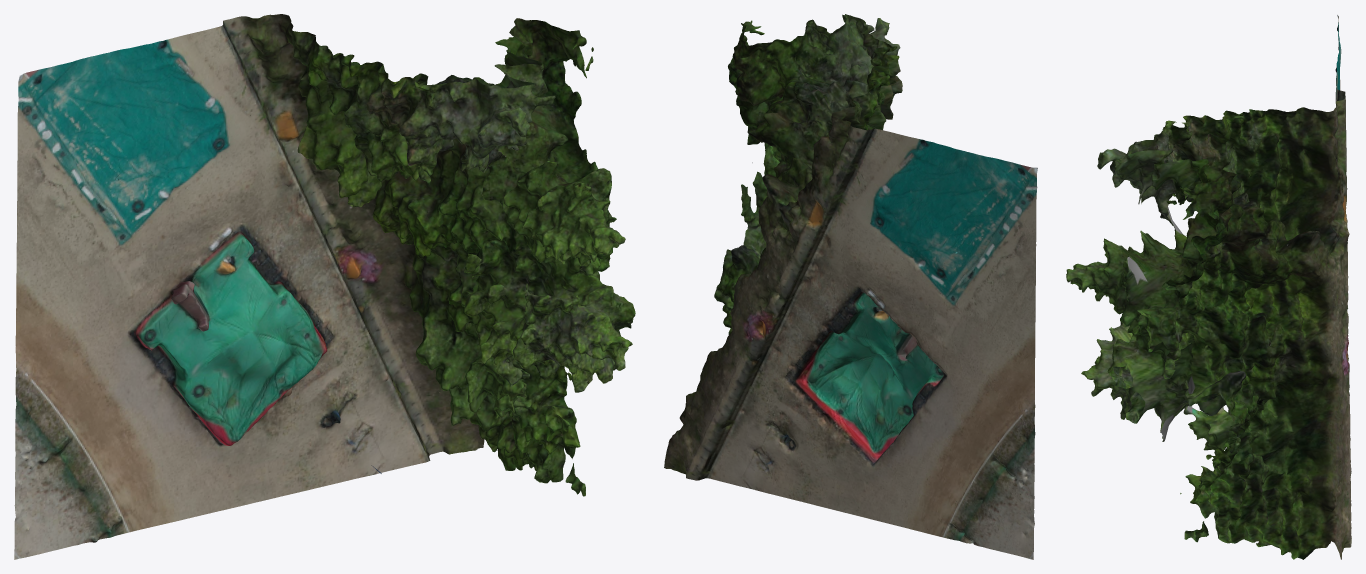
Rendered from Tile_+023_+011.fbx.
The picture shows the model from 3 angles, left to right: view 1: azimuth 30°, elevation 25°; view 2: azimuth 150°, elevation 25°; view 3: azimuth 270°, elevation 25°; orthographic projection. The views are drawn at different scales.
Visible parts, largest first — view 1: DefaultName; view 2: DefaultName; view 3: DefaultName.
Boxes of the visible parts, bbox=[...] form: DefaultName: bbox=[14, 14, 635, 559]; DefaultName: bbox=[664, 14, 1037, 559]; DefaultName: bbox=[1066, 15, 1351, 559].
Size of the model in its own units: 22.54 by 22.54 by 15.67.
